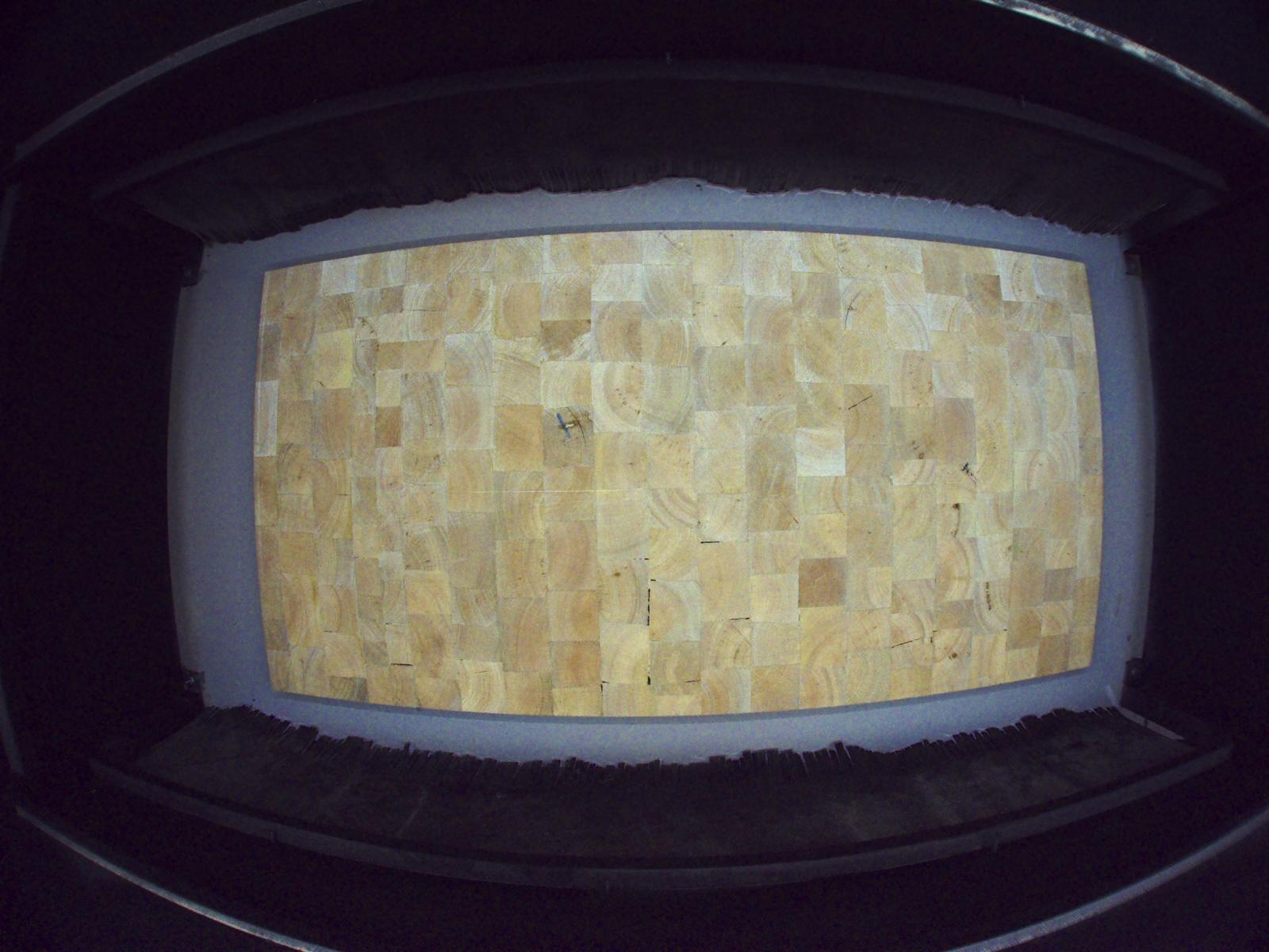sheck_ecuatoriano: (843, 283, 874, 330), (558, 408, 588, 451), (952, 503, 962, 538)
